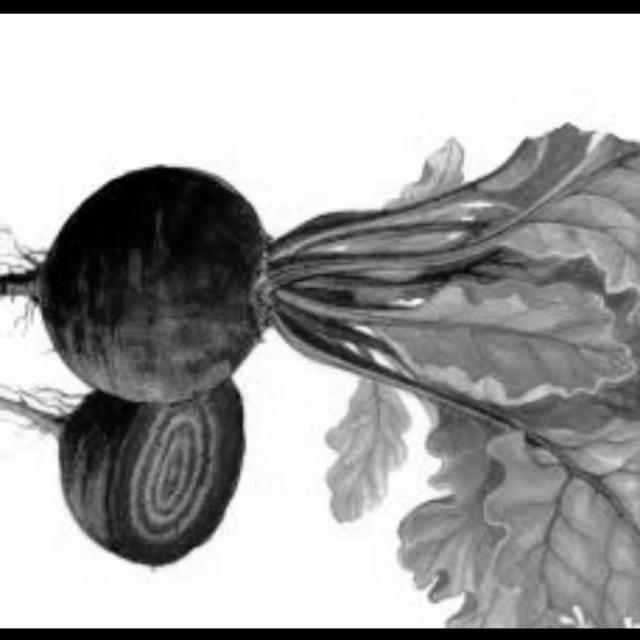cu cai duong: (11, 149, 320, 409), (1, 356, 258, 580)
